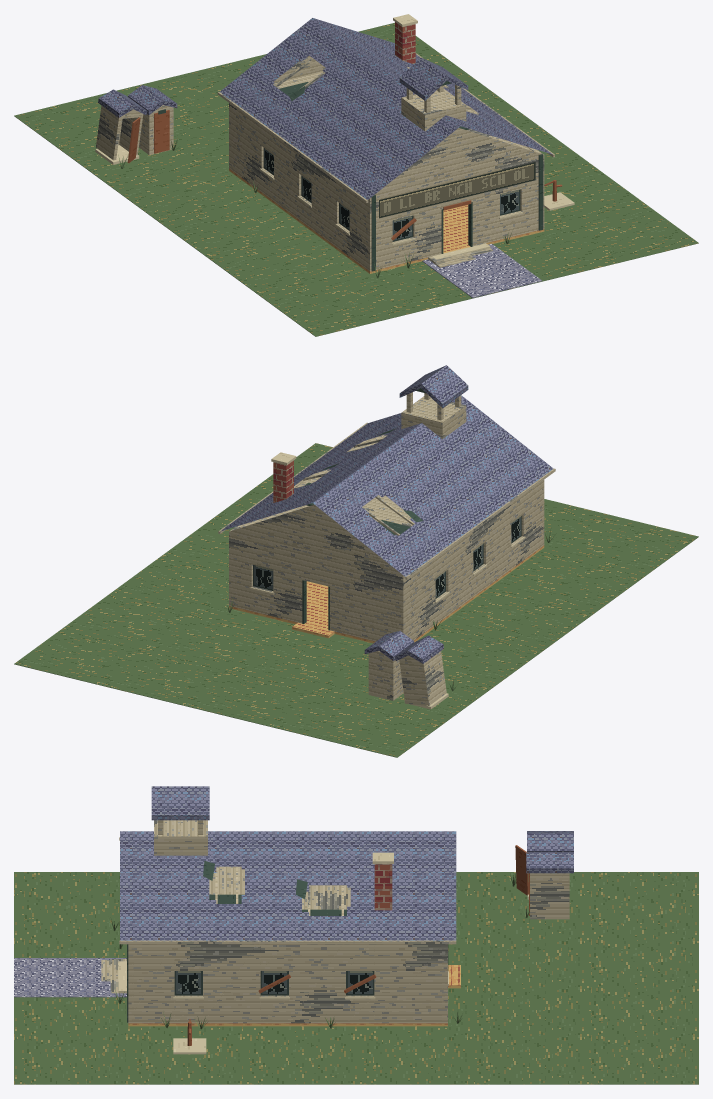
Rendered from mill-branch-abandoned-mid.glb.
3 renders of one model, top to bottom at view 1: azimuth 30°, elevation 25°; view 2: azimuth 150°, elevation 25°; view 3: azimuth 270°, elevation 25°, orthographic. The views are drawn at different scales.
Visible parts, largest first — view 1: lot, building_shell, sign_name, Leaning outhouse; view 2: lot, building_shell, Leaning outhouse, fixed_interior; view 3: lot, building_shell, fixed_interior, Leaning outhouse, Hanging door leaf.
Boxes of the visible parts, x1=… form: lot: x1=14, y1=22, x2=698, y2=336; building_shell: x1=217, y1=14, x2=554, y2=273; sign_name: x1=379, y1=162, x2=535, y2=218; Leaning outhouse: x1=96, y1=89, x2=146, y2=160; lot: x1=14, y1=443, x2=698, y2=757; building_shell: x1=218, y1=365, x2=555, y2=643; Leaning outhouse: x1=395, y1=635, x2=446, y2=705; fixed_interior: x1=241, y1=435, x2=412, y2=527; lot: x1=14, y1=852, x2=698, y2=1084; building_shell: x1=101, y1=786, x2=460, y2=1026; fixed_interior: x1=209, y1=866, x2=350, y2=909; Leaning outhouse: x1=527, y1=831, x2=573, y2=852; Hanging door leaf: x1=515, y1=845, x2=528, y2=895.
Size of what is drawn, in the model's own units: 22 by 9.3 by 30.
Materials: 11 (11 with a texture image).
